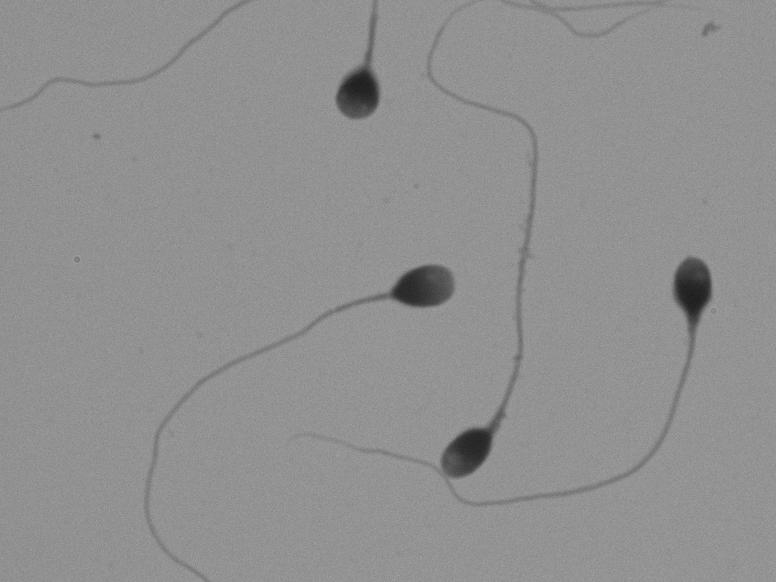Abnormal: (270, 22, 406, 142)
Normal: (422, 1, 583, 551), (91, 224, 460, 431), (525, 237, 747, 529)
